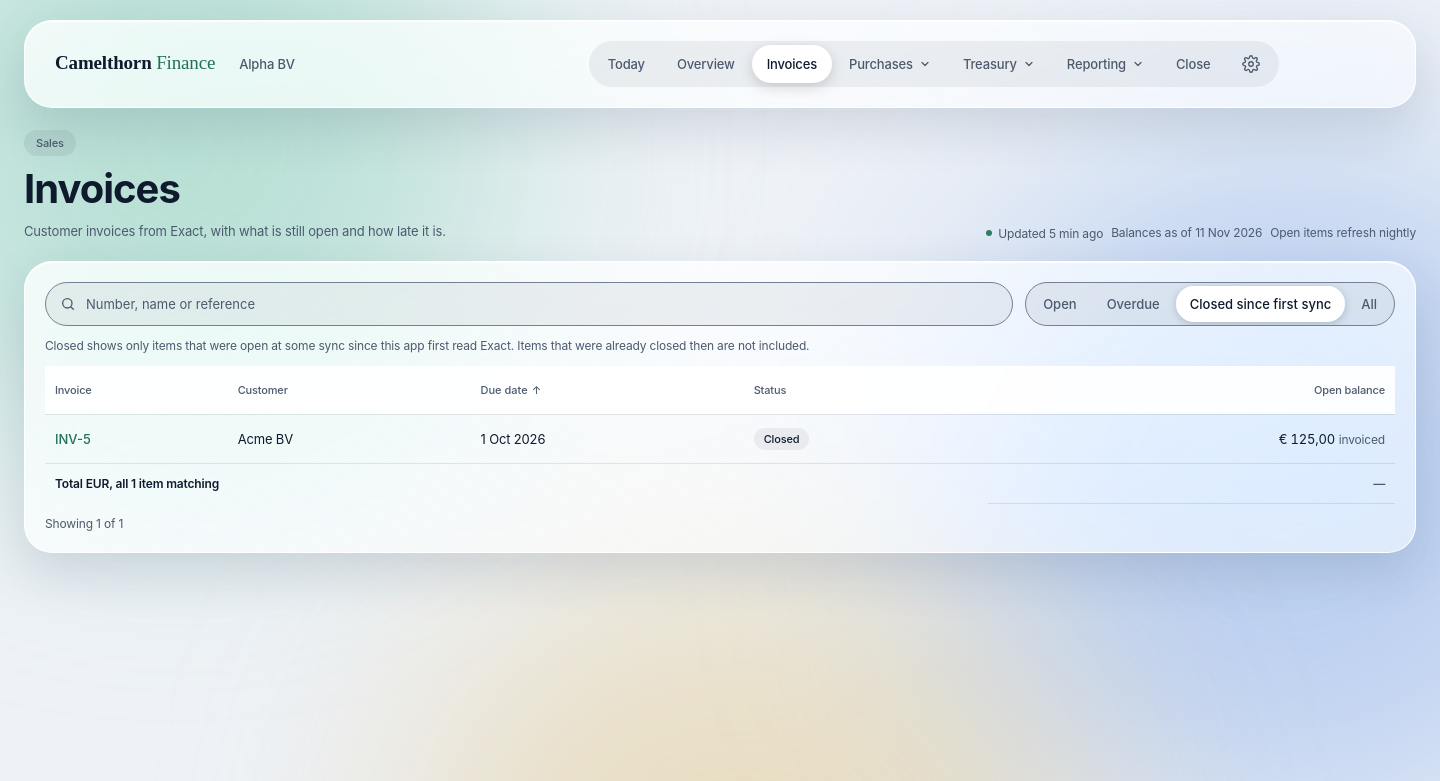
Test case: closed and all views (review S9) › the closed view's totals row and a closed item's sheet show no 0,00 open balance
Expected: the row with class "totals-row" is shown, [45, 464, 1395, 504]
Expected: the row with class "totals-row" shows "—", [1373, 476, 1385, 491]
Click the button "INV-5": (73, 439) [55, 427, 91, 451]
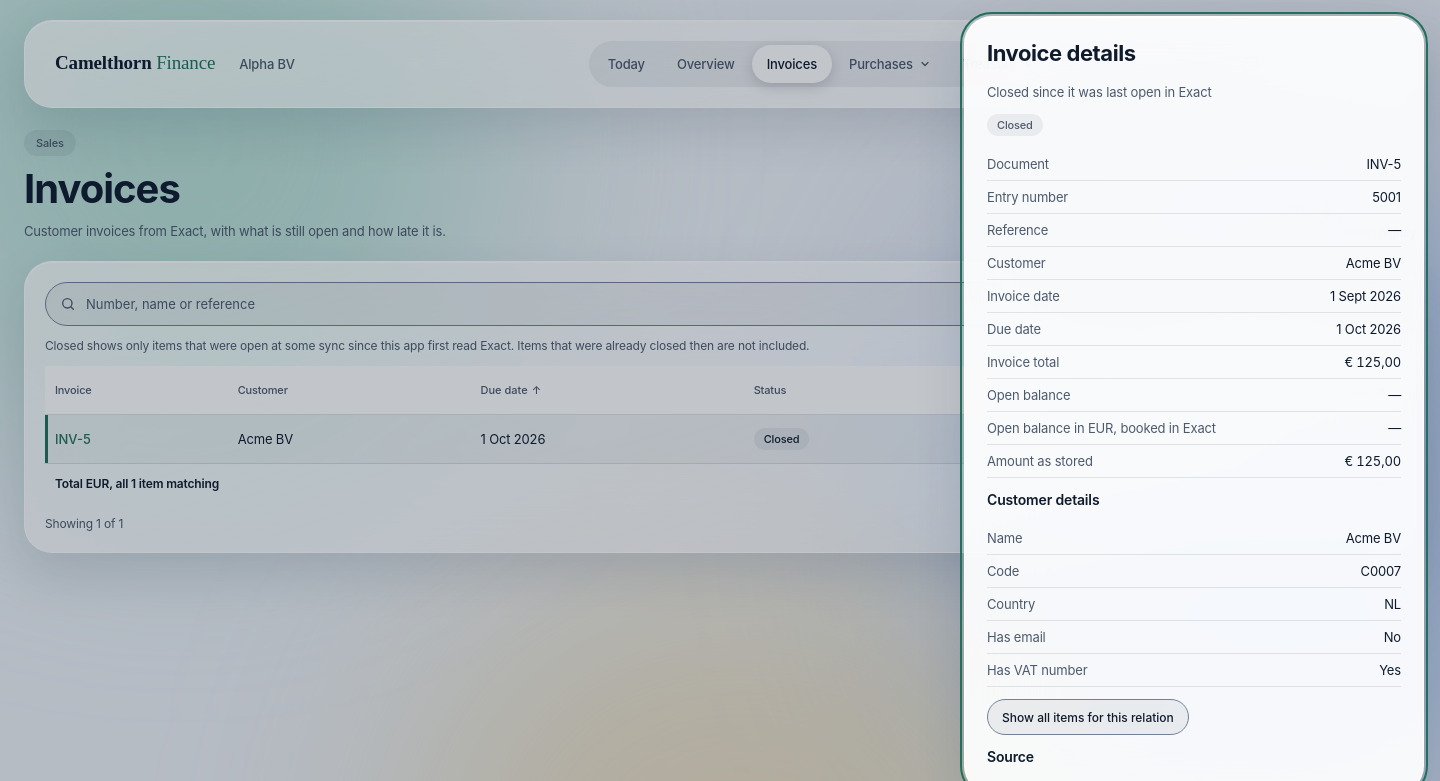
Now the text "Closed since it was last open in Exact" is shown, box [987, 84, 1212, 100]
Now the dialog shows "€ 125,00", box [1344, 354, 1401, 370]
